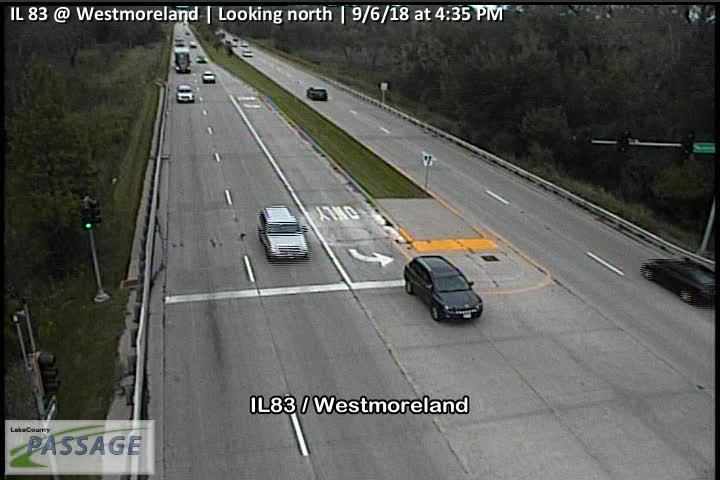Bus: (173, 45, 191, 74)
SUV: (402, 254, 484, 323), (257, 204, 308, 259)
Sedan: (640, 255, 720, 309), (306, 85, 328, 102), (176, 85, 195, 103), (201, 70, 216, 84)
